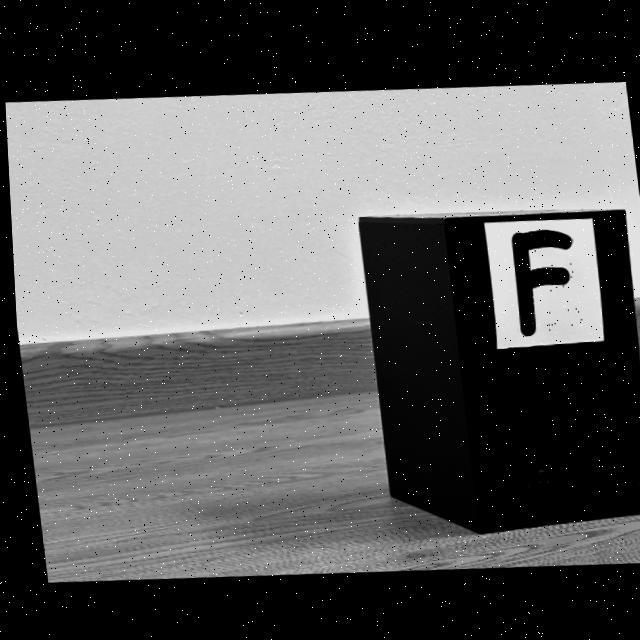F: (510, 225, 570, 332)
